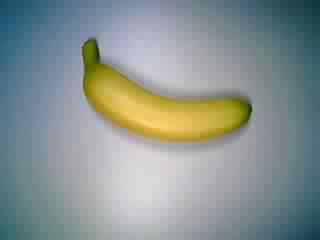banana: (77, 33, 256, 148)
